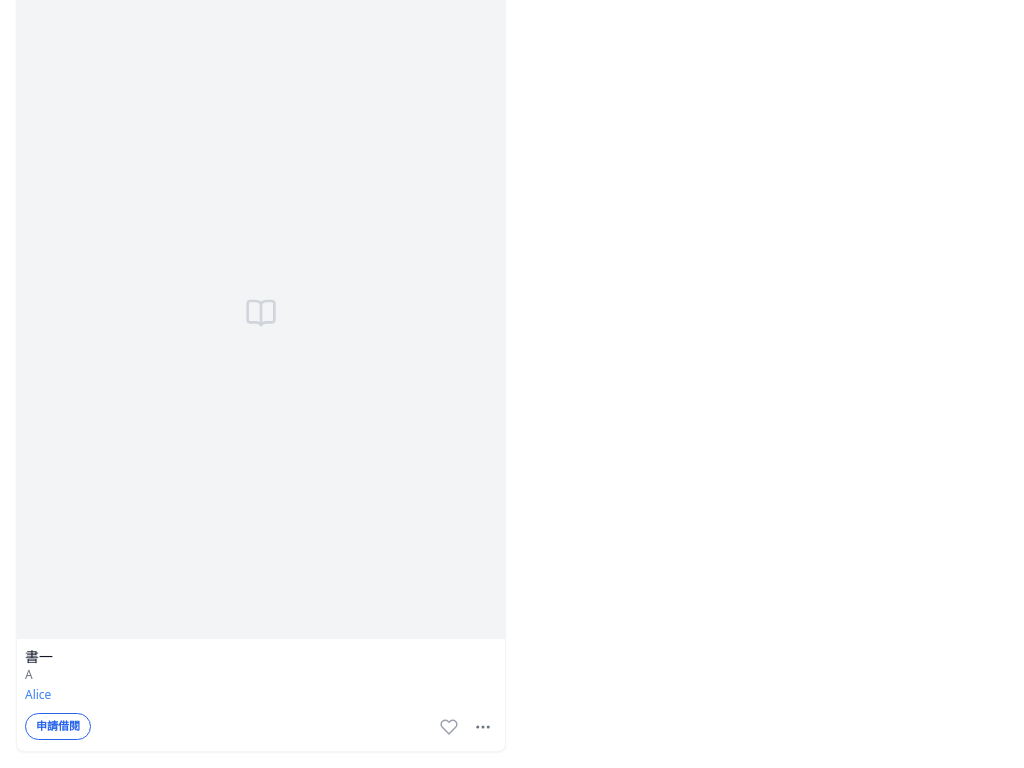
Test: FamilyShelfPage — borrow failure notice › removes the banner once a later borrow succeeds
(page scrolled)
Expected: the text "書一" is shown, [25, 647, 53, 666]
Click the button "申請借閱": (58, 727) [25, 713, 91, 740]
(page scrolled)
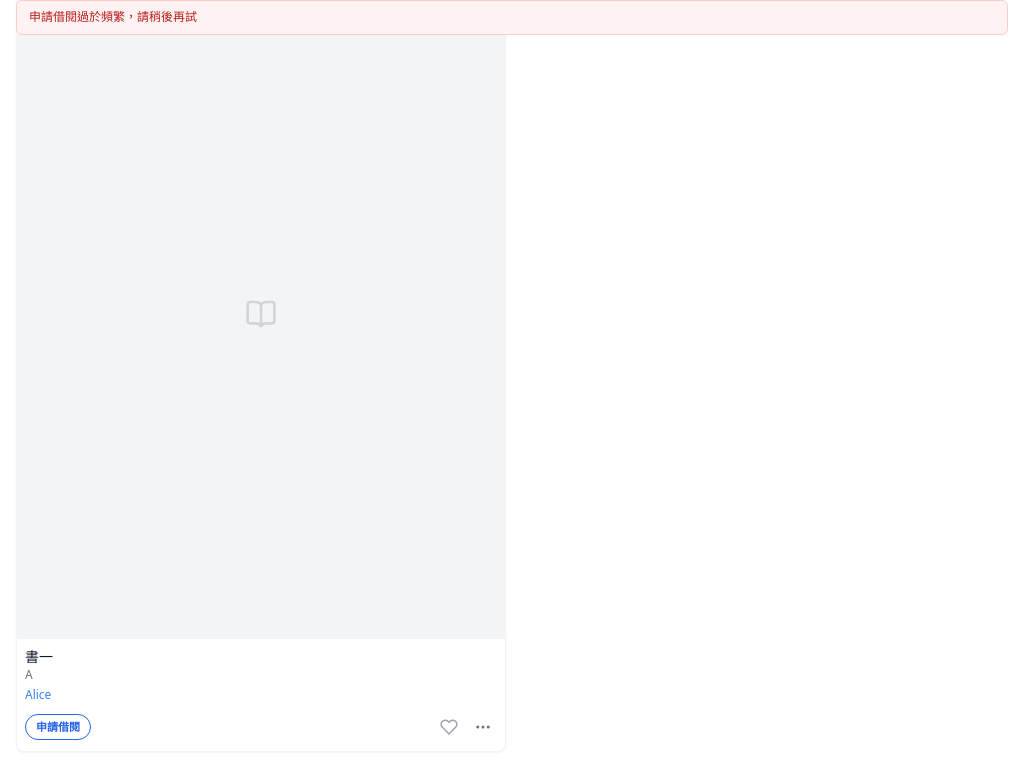
Expected: the message reads "申請借閱過於頻繁，請稍後再試", [29, 8, 197, 25]
Click the button "申請借閱": (58, 727) [25, 714, 91, 740]
(page scrolled)
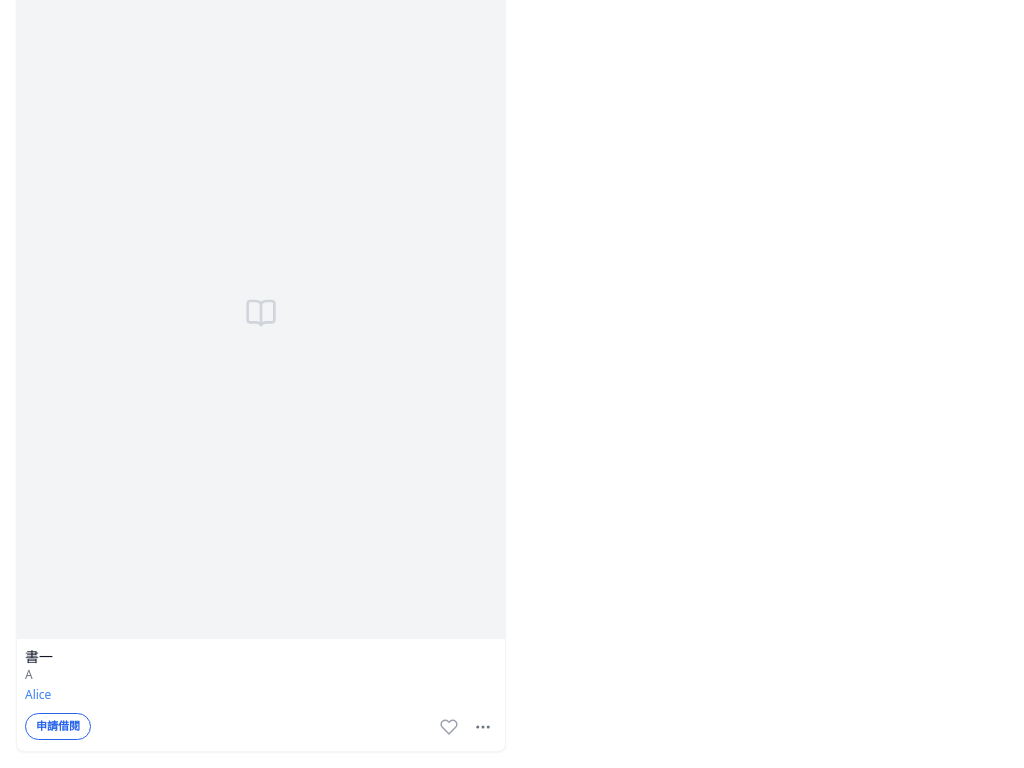
Expected: the message "申請借閱過於頻繁，請稍後再試" is gone
